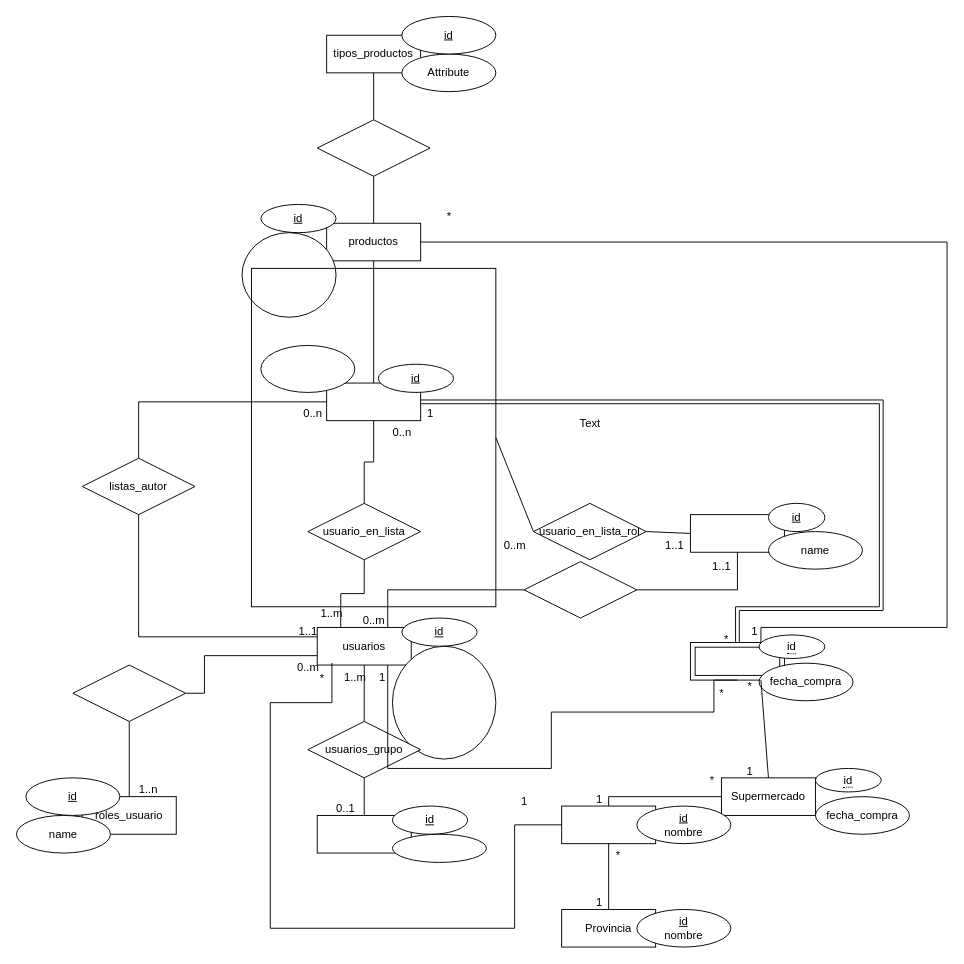
Some shapes in this 964 by 964 pixel diagram are drawn without their labels. Here are the shapes that lost their labels. From the top down, the centre of each, then its label:
At (x=373, y=147): "productos_tipos".
At (x=288, y=274): "descripcion precio cantidad esta_en_carrito".
At (x=307, y=368): "descripcion fecha_creacion".
At (x=373, y=401): "listas".
At (x=736, y=533): "roles_en_lista".
At (x=580, y=589): "usuario_rol_en_lista_preferido".
At (x=736, y=661): "compras".
At (x=129, y=692): "usuarios_rol".
At (x=444, y=702): "nombre apellido email email_confirmed_at imagen_perfil password fecha_creacion".
At (x=363, y=834): "grupos_familiares".
At (x=608, y=824): "Ciudad".
At (x=439, y=847): "nombre_familia".
